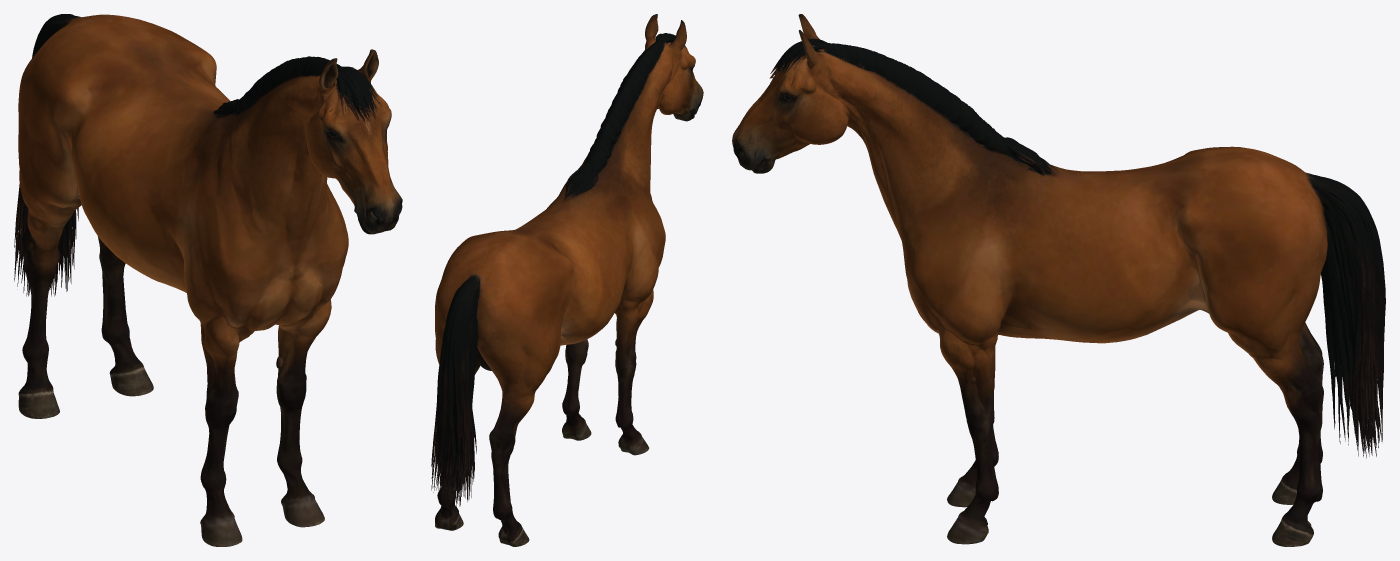
File: horse-warmblood.glb
The picture shows the model from 3 angles, left to right: view 1: azimuth 30°, elevation 25°; view 2: azimuth 150°, elevation 25°; view 3: azimuth 270°, elevation 25°; orthographic projection. The views are drawn at different scales.
Visible parts, largest first — view 1: horse; view 2: horse; view 3: horse.
Boxes of the visible parts, x1=… form: horse: x1=14, y1=14, x2=402, y2=546; horse: x1=431, y1=14, x2=703, y2=546; horse: x1=732, y1=14, x2=1385, y2=546.
Bounding box in the file's own units: 0.6523 × 2.01 × 2.4.
Materials: 1 (1 with a texture image).
